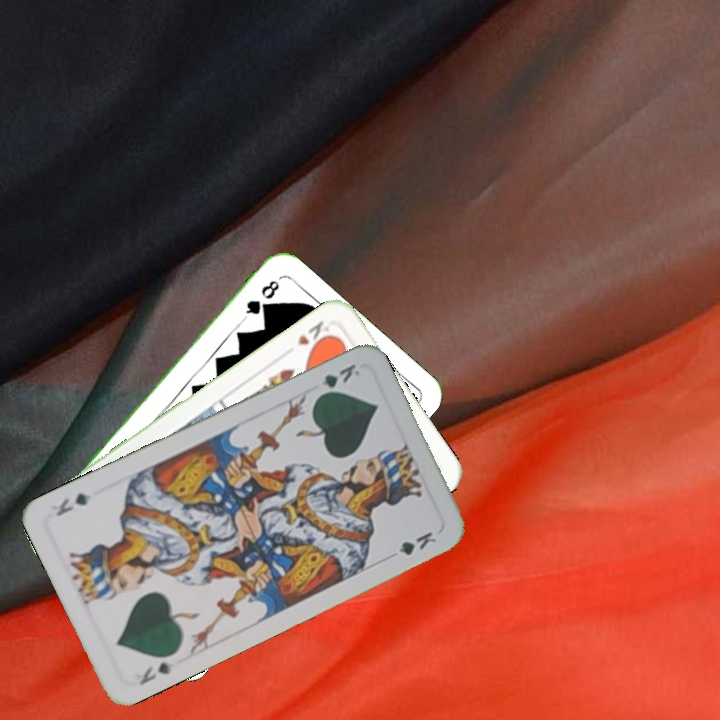G8: (239, 276, 282, 323)
GK: (311, 359, 363, 400), (135, 657, 177, 688)
HK: (293, 316, 338, 354)
